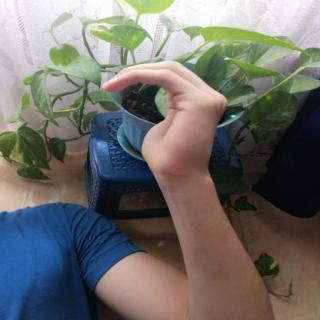HAA: (93, 54, 237, 187)
